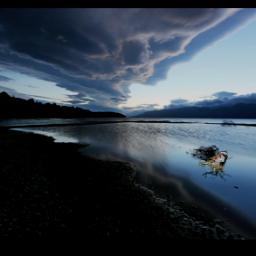Sparrow: (200, 151, 229, 173)
